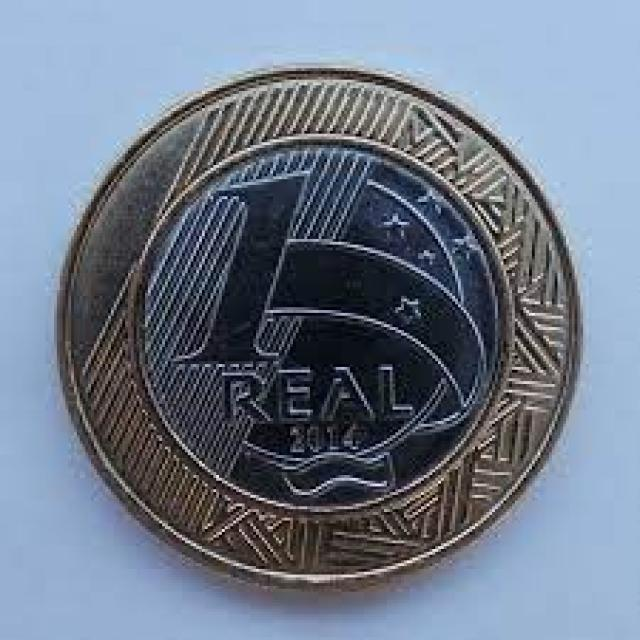1 real: (63, 59, 578, 590)
